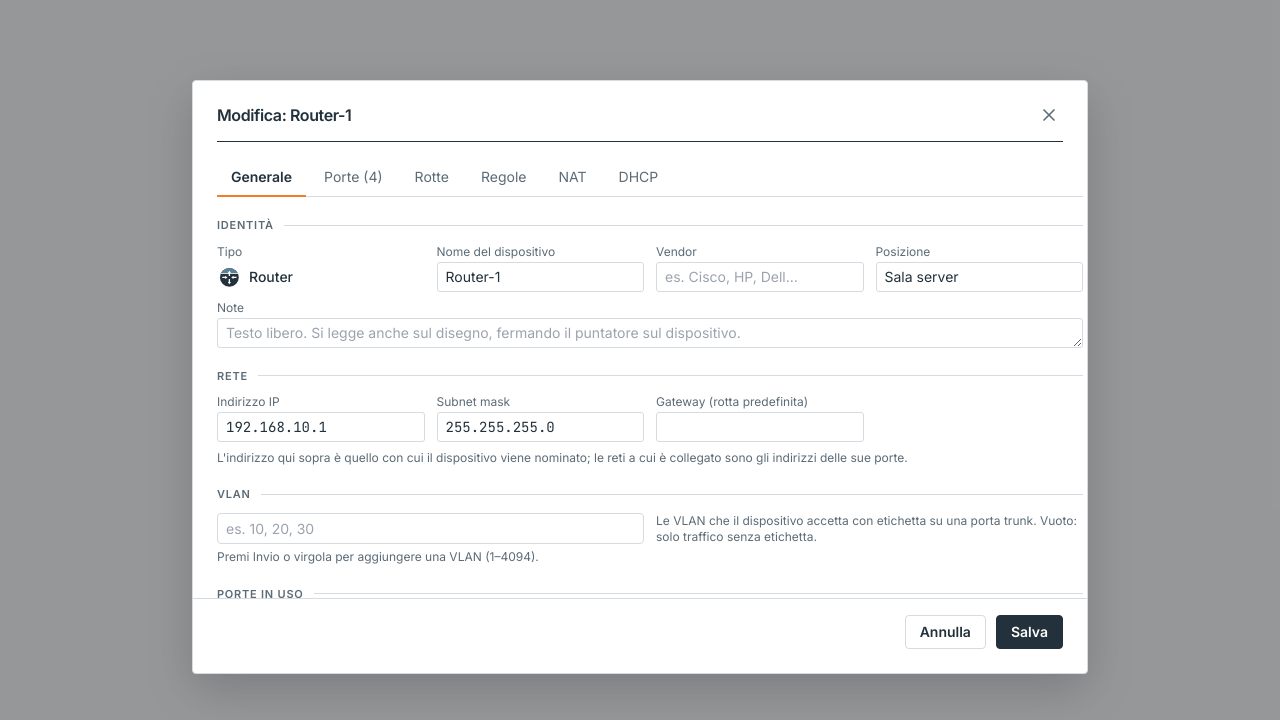
Test: InspectorModal — ports are typed straight into the form › what is typed on a port stays when another port is picked, and when another tab is opened
Click the button "Porte (4)" at (353, 178), box left=310, top=158, right=397, bottom=197
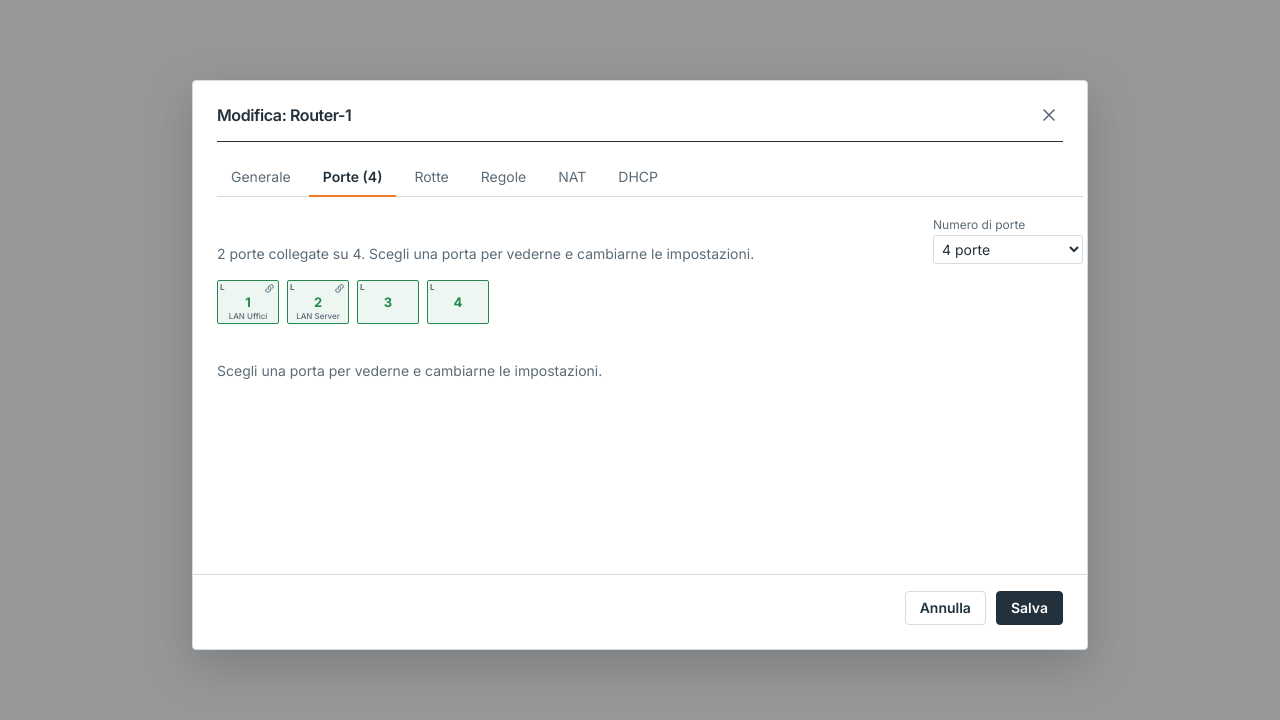
Click the text "3" at (388, 302), box left=384, top=296, right=392, bottom=308
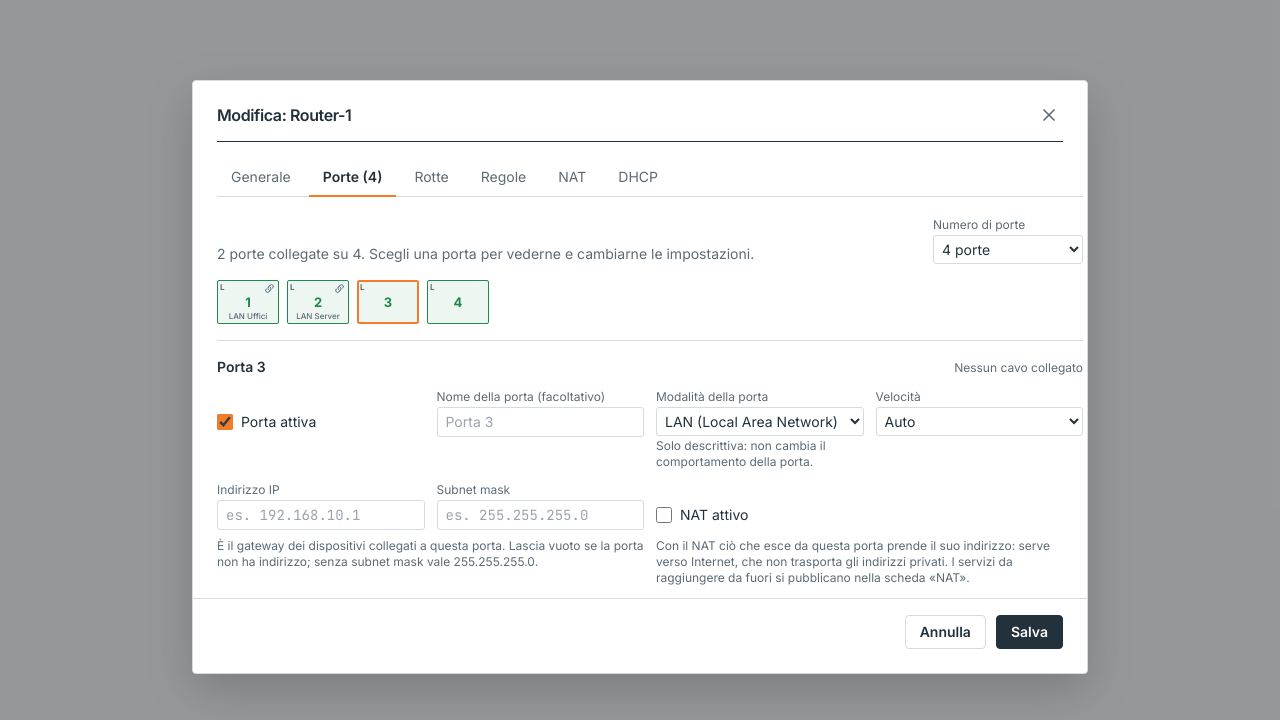
Type "Internet" into the field labelled "Nome della porta (facoltativo)" at (540, 422), box left=436, top=407, right=644, bottom=437
Click the text "4" at (458, 302), box left=454, top=296, right=462, bottom=308
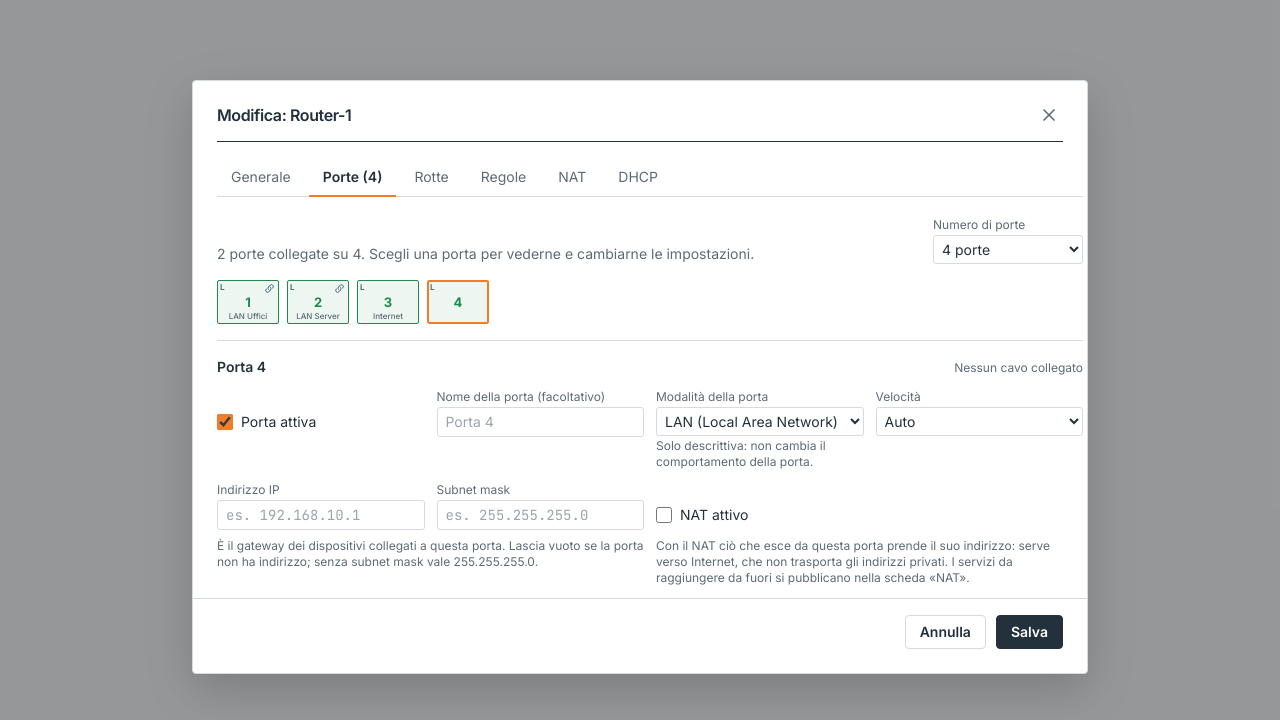
expect the field labelled "Nome della porta (facoltativo)" is empty: met, box left=436, top=407, right=644, bottom=437
Click the button "Generale" at (261, 178), box left=217, top=158, right=305, bottom=197
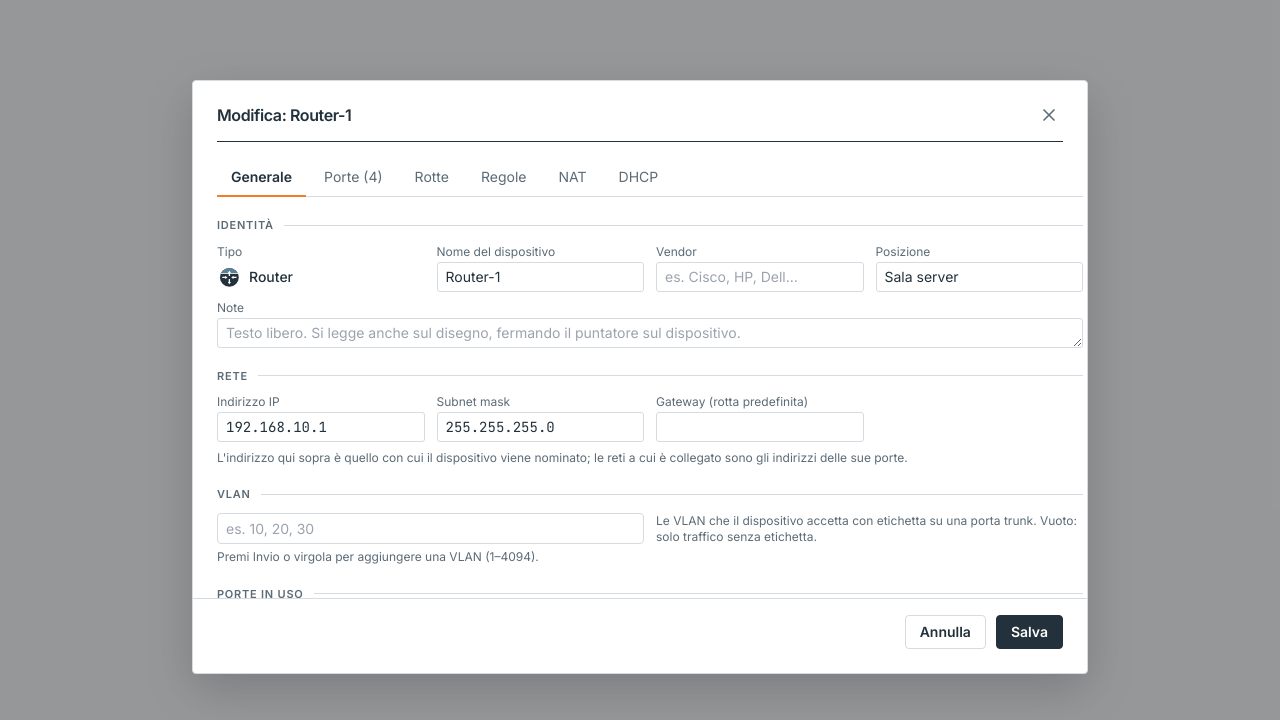
Click the button "Porte (4)" at (353, 178), box left=310, top=158, right=397, bottom=197
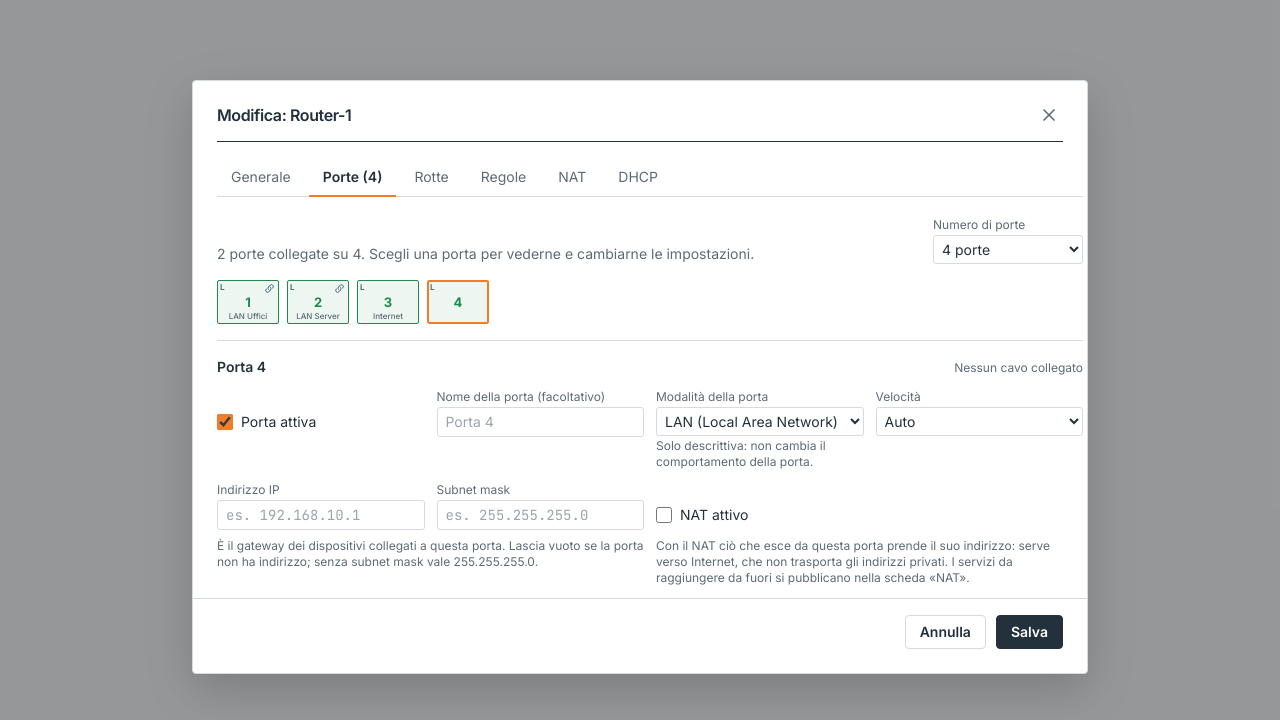
Click the text "3" at (388, 302), box left=384, top=296, right=392, bottom=308
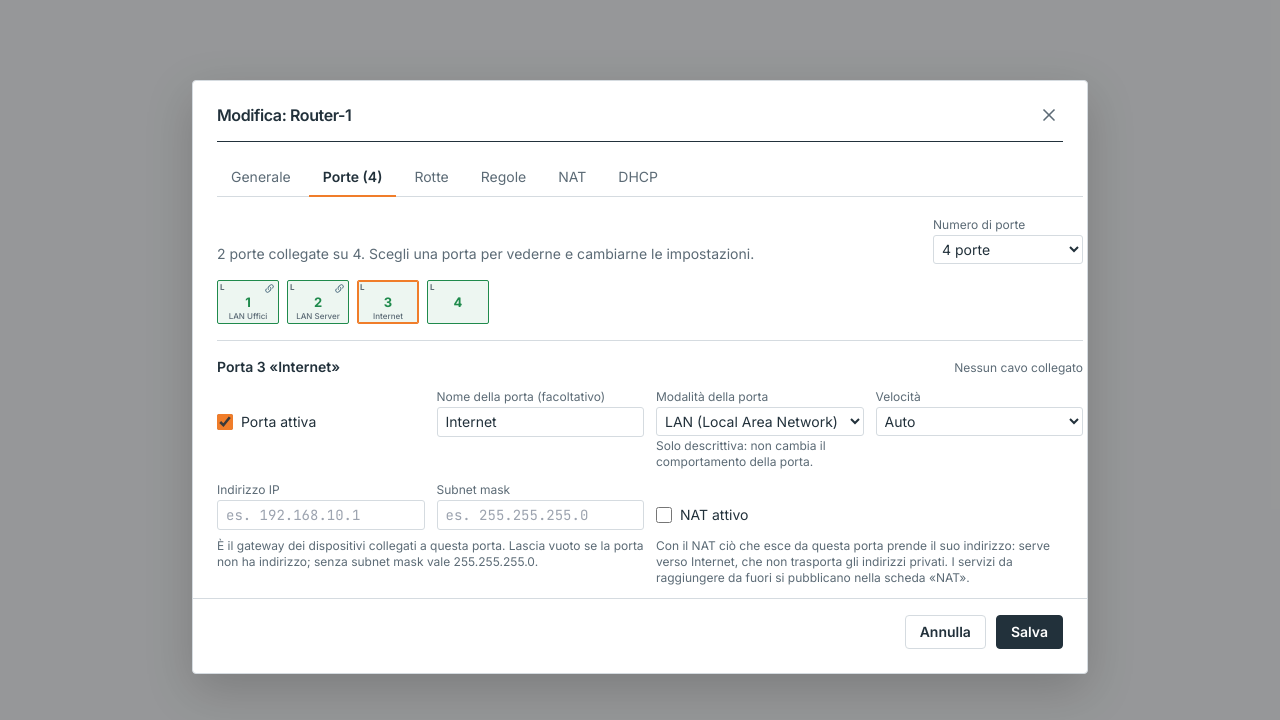
expect the field labelled "Nome della porta (facoltativo)" holds "Internet": met, box left=436, top=407, right=644, bottom=437
